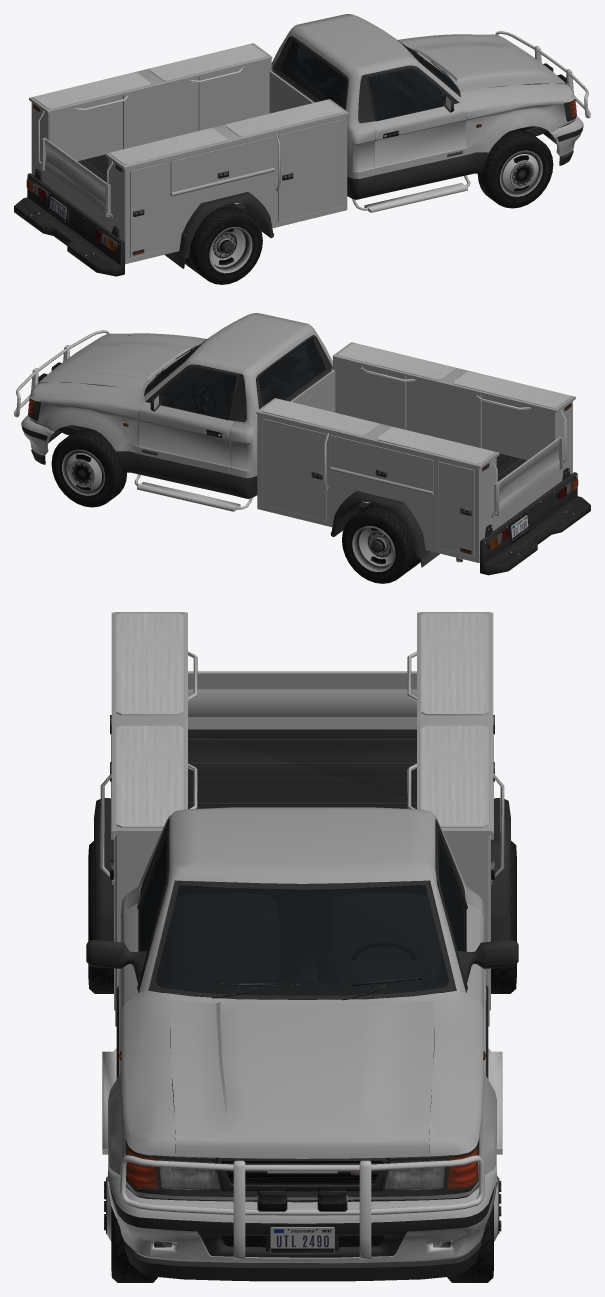
File: worktruck.glb
3 views of the same model, one above another, from view 1: azimuth 30°, elevation 25°; view 2: azimuth 150°, elevation 25°; view 3: azimuth 270°, elevation 25° (orthographic). The views are drawn at different scales.
Parts seen in each view (by area): view 1: UTLTRUCK90_Servisebed_UTLTRUCK90_Bodymat_0, UTLTRUCK90_Body_UTLTRUCK90_Bodymat_0, UTLTRUCK90_Servisebed_Trim_UCB_BOTTOM_0, UTLTRUCK90_bottom_UCB_BOTTOM_0, UTLTRUCK90_Hood_UTLTRUCK90_Bodymat_0, UTLTRUCK90_Interior_UCB_Interiors_1_0, UTLTRUCK90_Bumper_rear_UCB_BOTTOM_0, UTLTRUCK90_WheelStock_RR_RB1c_Tire_1k_0, UTLTRUCK90_WheelStock_FR_RB1c_Tire_1k_0, UTLTRUCK90_Glass_Passenger_UCB_Lights_and_Glass_Transperent_, UTLTRUCK90_Glass_Rear_UCB_Lights_and_Glass_Transperent_0, UTLTRUCK90_Bullbar_A_UCB_BOTTOM_0 (+3 smaller); view 2: UTLTRUCK90_Servisebed_UTLTRUCK90_Bodymat_0, UTLTRUCK90_Body_UTLTRUCK90_Bodymat_0, UTLTRUCK90_Servisebed_Trim_UCB_BOTTOM_0, UTLTRUCK90_bottom_UCB_BOTTOM_0, UTLTRUCK90_Hood_UTLTRUCK90_Bodymat_0, UTLTRUCK90_Bumper_rear_UCB_BOTTOM_0, UTLTRUCK90_Interior_UCB_Interiors_1_0, UTLTRUCK90_WheelStock_RL_RB1c_Tire_1k_0, UTLTRUCK90_WheelStock_FL_RB1c_Tire_1k_0, UTLTRUCK90_Glass_Driver_UCB_Lights_and_Glass_Transperent_0, UTLTRUCK90_Glass_Rear_UCB_Lights_and_Glass_Transperent_0, UTLTRUCK90_Bullbar_A_UCB_BOTTOM_0 (+3 smaller); view 3: UTLTRUCK90_Servisebed_Trim_UCB_BOTTOM_0, UTLTRUCK90_Body_UTLTRUCK90_Bodymat_0, UTLTRUCK90_Hood_UTLTRUCK90_Bodymat_0, UTLTRUCK90_Interior_UCB_Interiors_1_0, UTLTRUCK90_Windshield_UCB_Lights_and_Glass_Transperent_0, UTLTRUCK90_Servisebed_UTLTRUCK90_Bodymat_0, UTLTRUCK90_bottom_UCB_BOTTOM_0, UTLTRUCK90_Bumper_front_inner_UCB_BOTTOM_0, UTLTRUCK90_Bullbar_A_UCB_BOTTOM_0, UTLTRUCK90_Bumper_Front_UTLTRUCK90_Bodymat_0, UTLTRUCK90_Headlights_Glass_UCB_Lights_and_Glass_Transperent, UTLTRUCK90_Headlights_UCB_Lights_and_Glass_0 (+8 smaller).
Part boxes in pixels (box(x1,y1,x2,y2)): UTLTRUCK90_Servisebed_UTLTRUCK90_Bodymat_0: box(29, 43, 348, 264); UTLTRUCK90_Body_UTLTRUCK90_Bodymat_0: box(271, 14, 575, 178); UTLTRUCK90_Servisebed_Trim_UCB_BOTTOM_0: box(29, 44, 342, 258); UTLTRUCK90_bottom_UCB_BOTTOM_0: box(164, 36, 576, 268); UTLTRUCK90_Hood_UTLTRUCK90_Bodymat_0: box(402, 36, 566, 91); UTLTRUCK90_Interior_UCB_Interiors_1_0: box(273, 36, 456, 122); UTLTRUCK90_Bumper_rear_UCB_BOTTOM_0: box(14, 169, 124, 276); UTLTRUCK90_WheelStock_RR_RB1c_Tire_1k_0: box(185, 203, 262, 284); UTLTRUCK90_WheelStock_FR_RB1c_Tire_1k_0: box(477, 130, 553, 208); UTLTRUCK90_Glass_Passenger_UCB_Lights_and_Glass_Transperent_: box(368, 69, 442, 120); UTLTRUCK90_Glass_Rear_UCB_Lights_and_Glass_Transperent_0: box(280, 40, 346, 106); UTLTRUCK90_Bullbar_A_UCB_BOTTOM_0: box(495, 31, 590, 118); UTLTRUCK90_Servisebed_UTLTRUCK90_Bodymat_0: box(256, 342, 575, 562); UTLTRUCK90_Body_UTLTRUCK90_Bodymat_0: box(29, 313, 332, 477); UTLTRUCK90_Servisebed_Trim_UCB_BOTTOM_0: box(262, 343, 575, 557); UTLTRUCK90_bottom_UCB_BOTTOM_0: box(28, 335, 462, 567); UTLTRUCK90_Hood_UTLTRUCK90_Bodymat_0: box(38, 335, 202, 390); UTLTRUCK90_Bumper_rear_UCB_BOTTOM_0: box(480, 468, 590, 575); UTLTRUCK90_Interior_UCB_Interiors_1_0: box(148, 337, 330, 418); UTLTRUCK90_WheelStock_RL_RB1c_Tire_1k_0: box(342, 502, 420, 583); UTLTRUCK90_WheelStock_FL_RB1c_Tire_1k_0: box(51, 429, 126, 507); UTLTRUCK90_Glass_Driver_UCB_Lights_and_Glass_Transperent_0: box(162, 368, 236, 419); UTLTRUCK90_Glass_Rear_UCB_Lights_and_Glass_Transperent_0: box(258, 339, 325, 405); UTLTRUCK90_Bullbar_A_UCB_BOTTOM_0: box(14, 330, 109, 417); UTLTRUCK90_Servisebed_Trim_UCB_BOTTOM_0: box(94, 613, 510, 941); UTLTRUCK90_Body_UTLTRUCK90_Bodymat_0: box(108, 807, 496, 1200); UTLTRUCK90_Hood_UTLTRUCK90_Bodymat_0: box(170, 1000, 434, 1158); UTLTRUCK90_Interior_UCB_Interiors_1_0: box(141, 842, 463, 994); UTLTRUCK90_Windshield_UCB_Lights_and_Glass_Transperent_0: box(156, 885, 448, 995); UTLTRUCK90_Servisebed_UTLTRUCK90_Bodymat_0: box(111, 612, 493, 1026); UTLTRUCK90_bottom_UCB_BOTTOM_0: box(86, 819, 518, 1201); UTLTRUCK90_Bumper_front_inner_UCB_BOTTOM_0: box(107, 1181, 497, 1281); UTLTRUCK90_Bullbar_A_UCB_BOTTOM_0: box(119, 1155, 485, 1259); UTLTRUCK90_Bumper_Front_UTLTRUCK90_Bodymat_0: box(107, 1165, 497, 1223); UTLTRUCK90_Headlights_Glass_UCB_Lights_and_Glass_Transperent: box(126, 1147, 478, 1190); UTLTRUCK90_Headlights_UCB_Lights_and_Glass_0: box(159, 1157, 445, 1189).
Size of the model in its own units: 5.37 by 1.66 by 2.
Materials: 8 (7 with a texture image).
